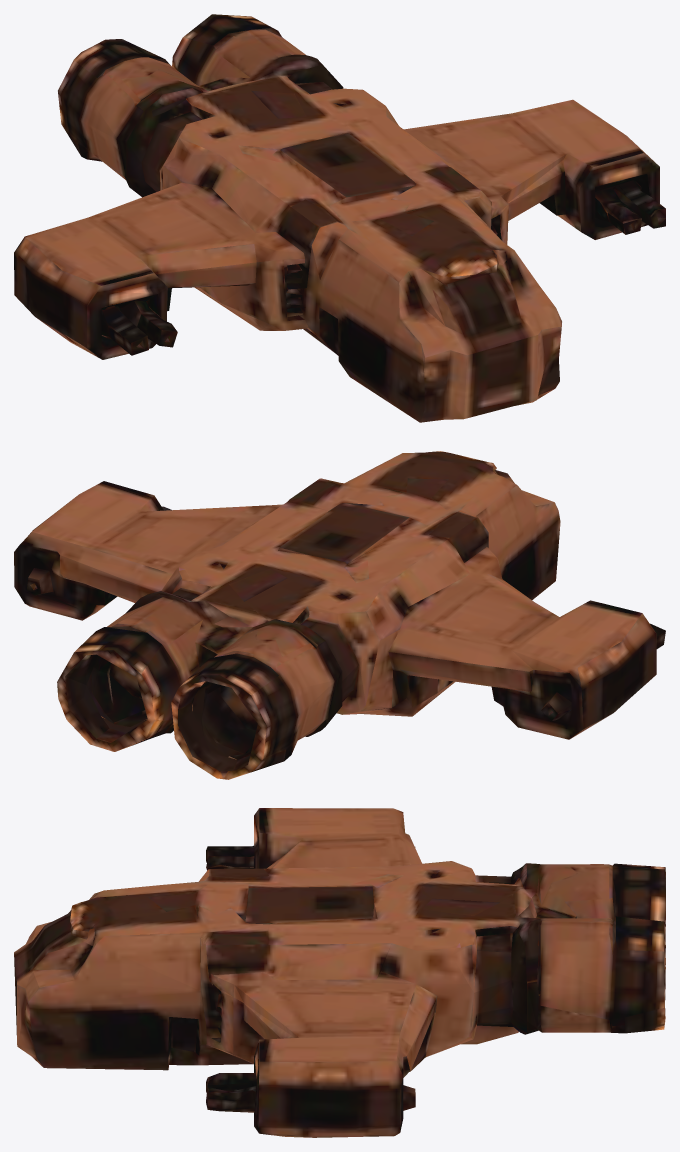
The model's file is enemy-heavy-s6.glb.
3 renders of one model, top to bottom at view 1: azimuth 30°, elevation 25°; view 2: azimuth 150°, elevation 25°; view 3: azimuth 270°, elevation 25°, orthographic. The views are drawn at different scales.
Visible parts, largest first — view 1: 9adbb147-c497-479b-8c6b-6f7a91005b4a_texturing.obj; view 2: 9adbb147-c497-479b-8c6b-6f7a91005b4a_texturing.obj; view 3: 9adbb147-c497-479b-8c6b-6f7a91005b4a_texturing.obj.
Part boxes in pixels (<box>): 9adbb147-c497-479b-8c6b-6f7a91005b4a_texturing.obj: <box>14,14,665,422</box>; 9adbb147-c497-479b-8c6b-6f7a91005b4a_texturing.obj: <box>14,451,665,779</box>; 9adbb147-c497-479b-8c6b-6f7a91005b4a_texturing.obj: <box>14,808,665,1137</box>.
Size of the model in its own units: 1.99 by 0.486 by 1.99.
1 material, 1 textured.
